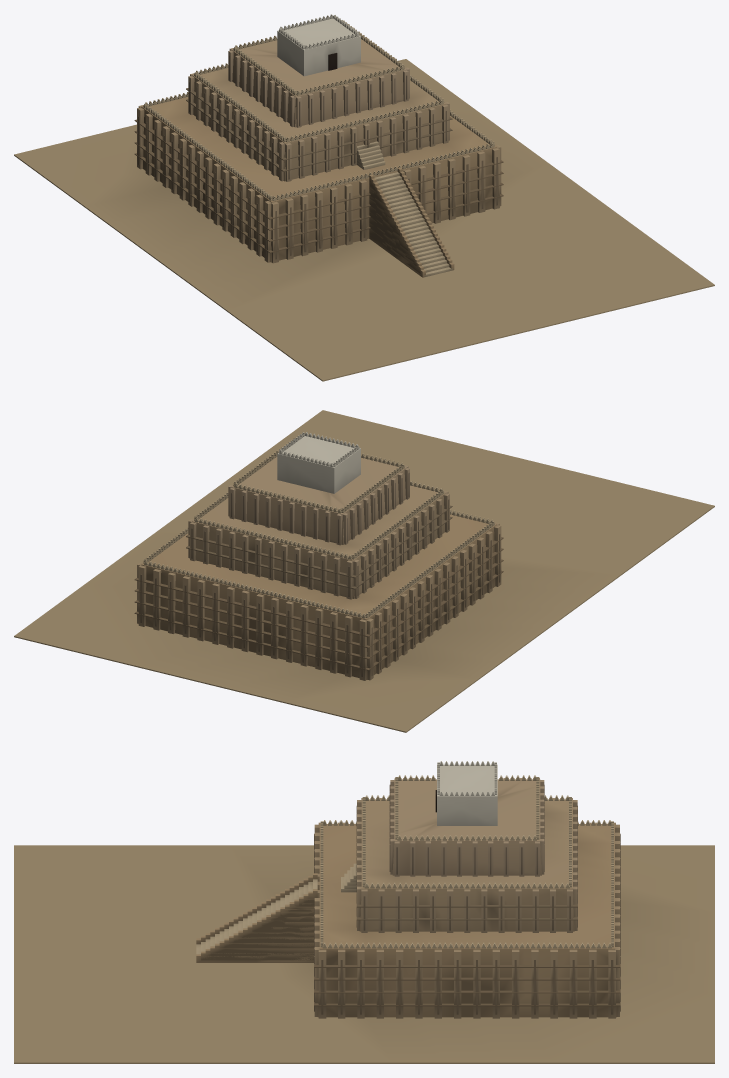
File: etemenanki-early.glb
The picture shows the model from 3 angles, top to bottom: view 1: azimuth 30°, elevation 25°; view 2: azimuth 150°, elevation 25°; view 3: azimuth 270°, elevation 25°; orthographic projection. The views are drawn at different scales.
Parts seen in each view (by area): view 1: p0_first stage, p1_second stage, p2_shrine; view 2: p0_first stage, p2_shrine, p1_second stage; view 3: p0_first stage, p1_second stage, p2_shrine.
Boxes of the visible parts, x1=… form: p0_first stage: x1=14, y1=59, x2=714, y2=381; p1_second stage: x1=186, y1=67, x2=454, y2=277; p2_shrine: x1=143, y1=14, x2=494, y2=200; p0_first stage: x1=14, y1=410, x2=714, y2=732; p2_shrine: x1=143, y1=432, x2=494, y2=618; p1_second stage: x1=186, y1=484, x2=452, y2=599; p0_first stage: x1=14, y1=822, x2=714, y2=1063; p1_second stage: x1=196, y1=798, x2=577, y2=962; p2_shrine: x1=320, y1=761, x2=613, y2=948.
Bounding box in the file's own units: 110 × 42.21 × 150.
